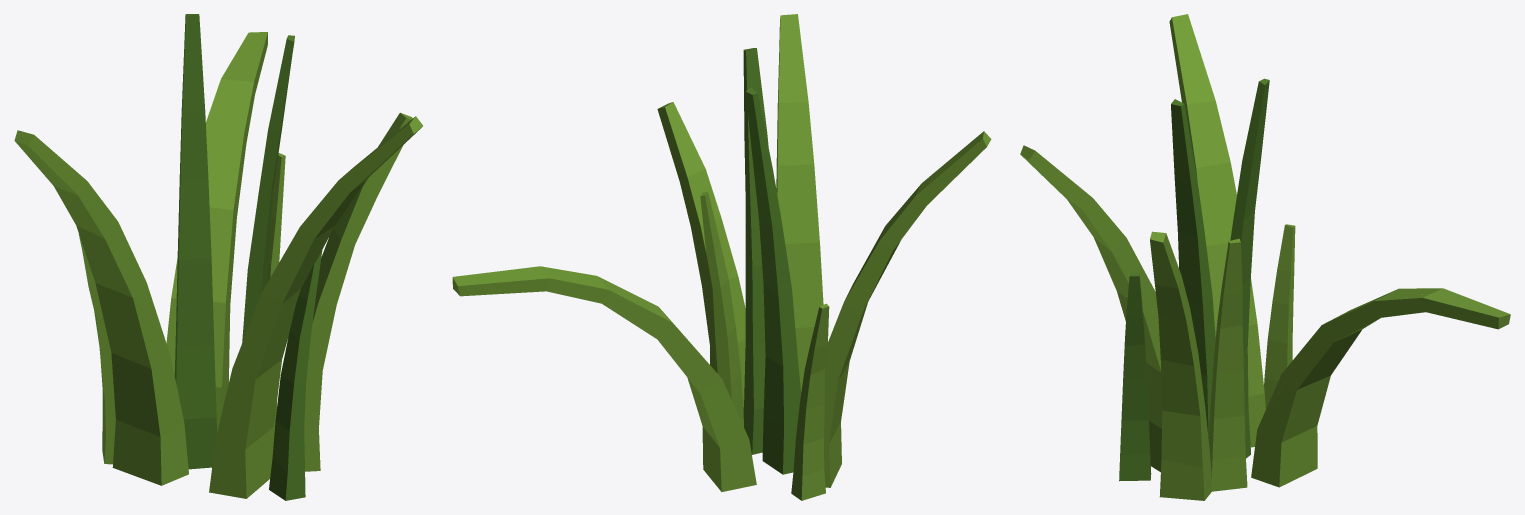
Rendered from Grass006.gltf.
3 renders of one model, left to right at view 1: azimuth 30°, elevation 25°; view 2: azimuth 150°, elevation 25°; view 3: azimuth 270°, elevation 25°, orthographic. The views are drawn at different scales.
Visible parts, largest first — view 1: Grass006; view 2: Grass006; view 3: Grass006.
Part boxes in pixels (x1,y1,x2,y2): Grass006: (14,14,422,500); Grass006: (452,14,991,500); Grass006: (1020,14,1510,500).
Size of the model in its own units: 0.2718 by 0.2635 by 0.3015.
